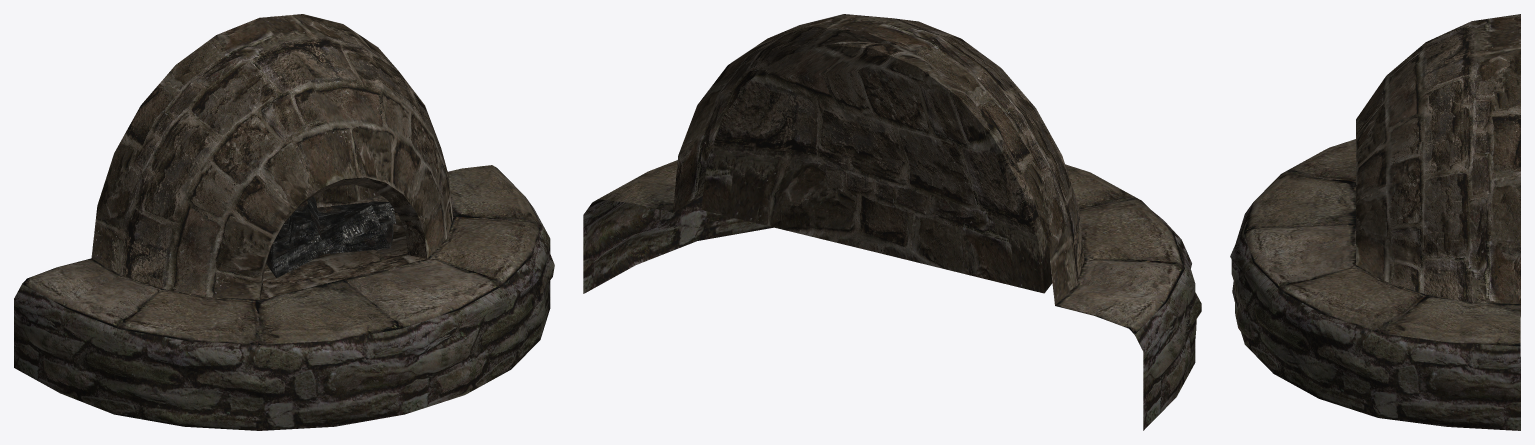
The model's file is G3_Object_Fireplace_02.obj.
3 views of the same model, side by side, from view 1: azimuth 30°, elevation 25°; view 2: azimuth 150°, elevation 25°; view 3: azimuth 270°, elevation 25° (orthographic). The views are drawn at different scales.
Visible parts, largest first — view 1: G3_Object_Fireplace_02_0, G3_Object_Fireplace_02_2, G3_Object_Fireplace_02_1, G3_Object_Fireplace_02_3; view 2: G3_Object_Fireplace_02_0, G3_Object_Fireplace_02_1, G3_Object_Fireplace_02_2; view 3: G3_Object_Fireplace_02_0, G3_Object_Fireplace_02_2, G3_Object_Fireplace_02_1.
Part boxes in pixels (<box>): G3_Object_Fireplace_02_0: <box>91,14,453,299</box>; G3_Object_Fireplace_02_2: <box>14,198,554,430</box>; G3_Object_Fireplace_02_1: <box>22,165,541,344</box>; G3_Object_Fireplace_02_3: <box>266,196,396,278</box>; G3_Object_Fireplace_02_0: <box>673,14,1084,305</box>; G3_Object_Fireplace_02_1: <box>598,160,1184,334</box>; G3_Object_Fireplace_02_2: <box>583,196,1201,430</box>; G3_Object_Fireplace_02_0: <box>1356,14,1520,304</box>; G3_Object_Fireplace_02_2: <box>1230,203,1520,430</box>; G3_Object_Fireplace_02_1: <box>1244,139,1520,346</box>.
Size of the model in its own units: 3.62 by 2.03 by 1.88.
